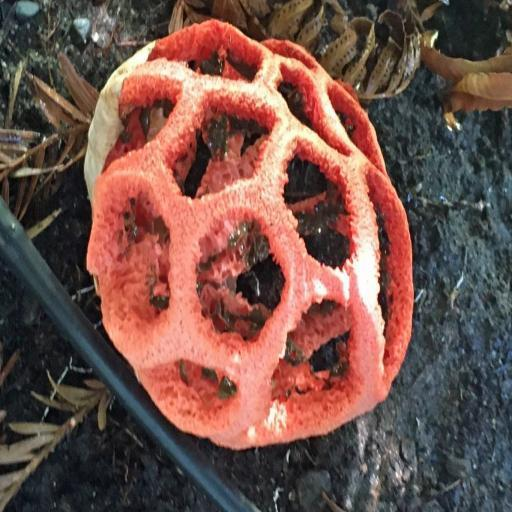mushroom: (83, 21, 422, 447)
